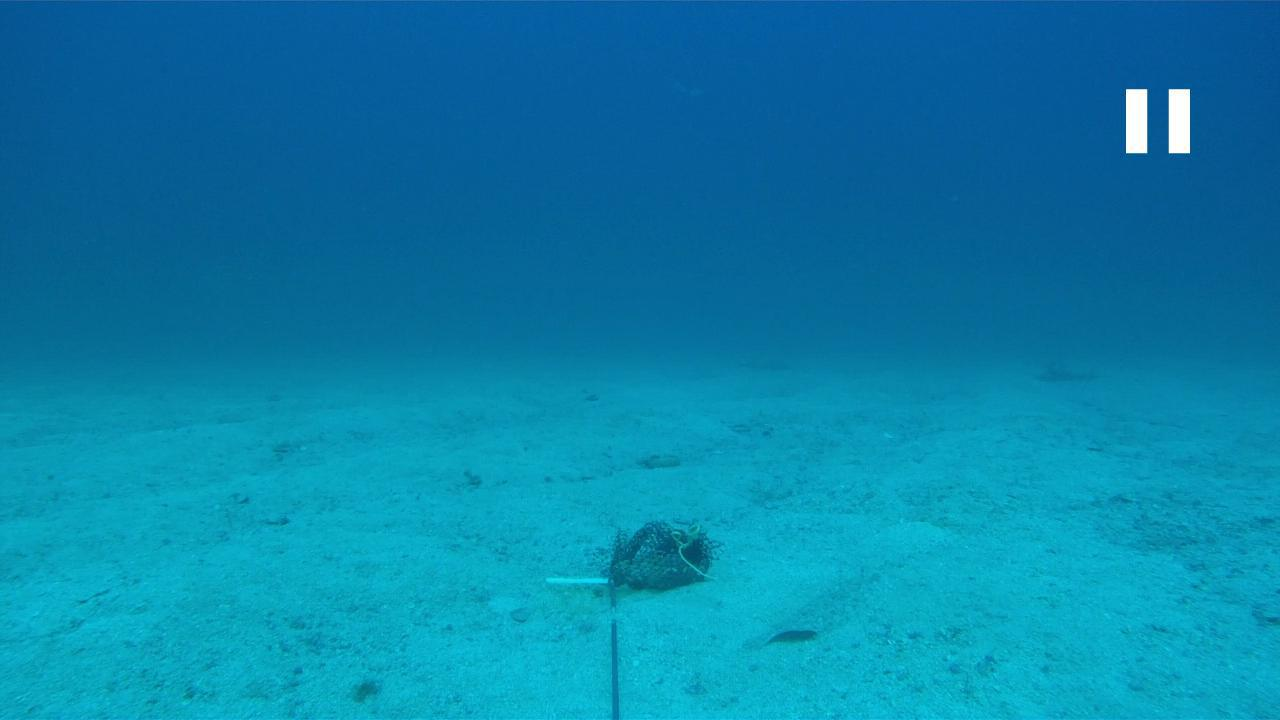bothus: (734, 566, 866, 650)
